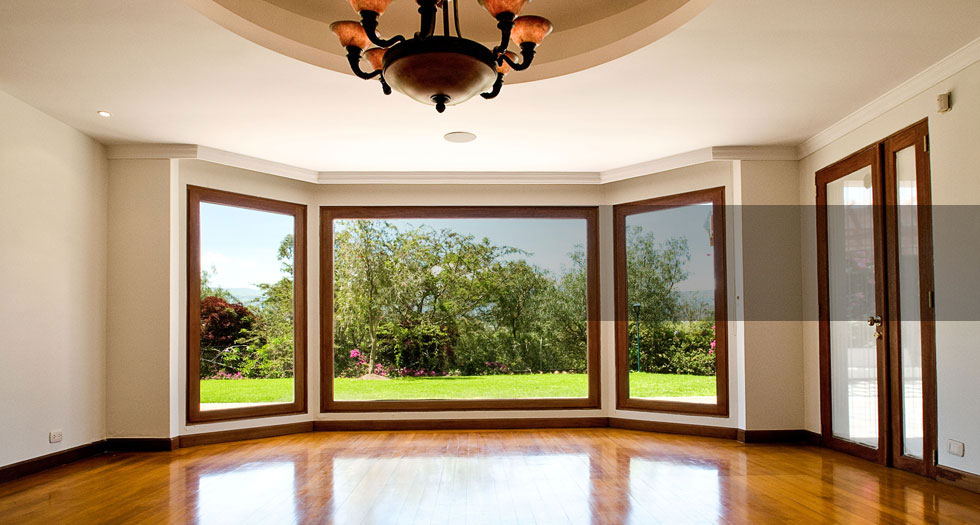windows: (191, 187, 727, 420)
